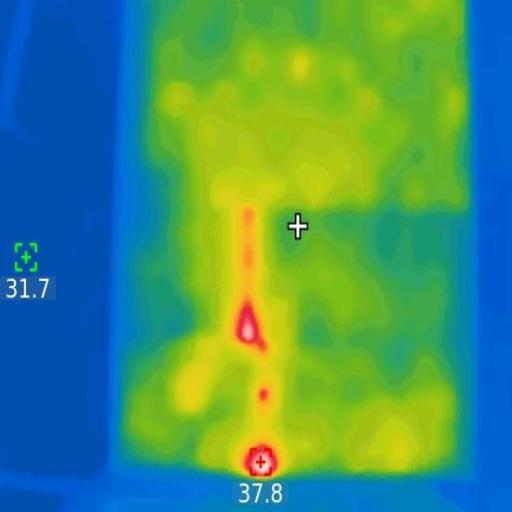hotspot: (236, 296, 267, 355), (242, 441, 278, 476), (260, 386, 269, 404)
